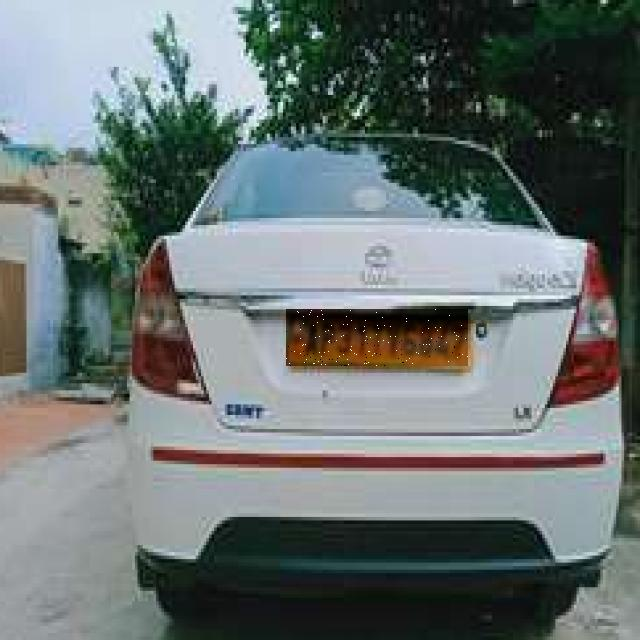Plate: (287, 310, 469, 367)
